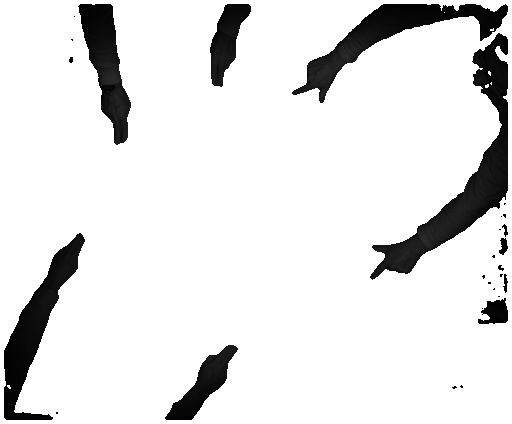hand: (288, 55, 339, 103), (368, 237, 420, 279), (99, 91, 135, 151), (198, 344, 239, 396), (49, 232, 87, 286), (208, 38, 239, 87)
